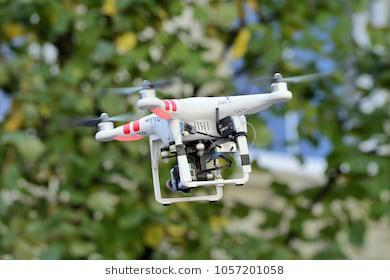drone: (62, 60, 336, 213)
